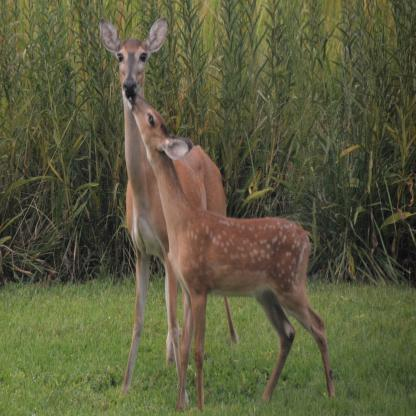Deer: (123, 86, 338, 413), (98, 13, 242, 403)
